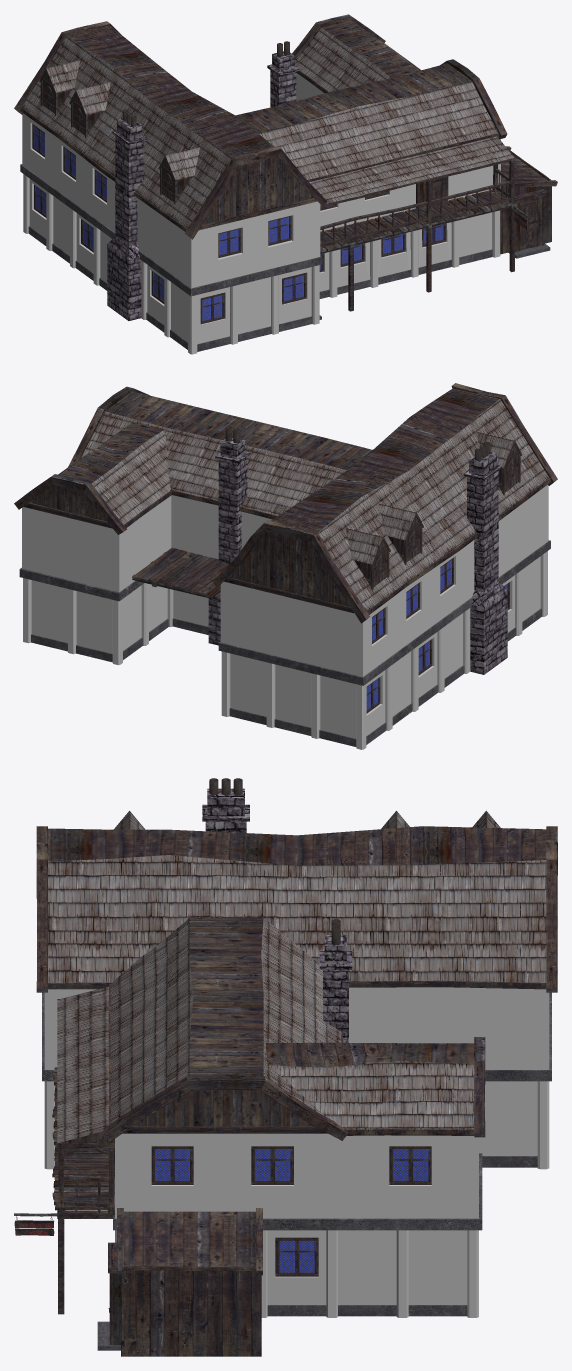
The picture shows the model from 3 angles, top to bottom: view 1: azimuth 30°, elevation 25°; view 2: azimuth 150°, elevation 25°; view 3: azimuth 270°, elevation 25°; orthographic projection. The views are drawn at different scales.
Parts seen in each view (by area): view 1: Roof, Level1, Level2, RoofWood, Balcony, Chimney, RoofFrame, Level3, WindowFrames, Foundation, Level2Frame, Level3Frames (+5 smaller); view 2: Level2, Roof, Level1, RoofWood, Chimney, Level3, RoofFrame, Level2Frame, Foundation, BackBalcony, Level3Frames, WindowFrames; view 3: Roof, RoofWood, Level2, Level1, RoofFrame, Entrance, Balcony, Level3, Level2Frame, Chimney, WindowFrames, Foundation (+8 smaller).
Part boxes in pixels (x1,y1,x2,y2): Roof: (22,28,514,228); Level1: (23,174,500,354); Level2: (22,73,500,288); RoofWood: (67,20,547,181); Balcony: (320,157,515,311); Chimney: (107,51,299,320); RoofFrame: (14,14,557,239); Level3: (42,73,313,224); WindowFrames: (32,86,446,324); Foundation: (28,226,492,351); Level2Frame: (20,164,501,296); Level3Frames: (40,78,317,230); Level2: (22,484,548,676); Roof: (58,399,548,610); Level1: (23,551,547,749); RoofWood: (60,388,499,532); Chimney: (208,437,507,674); Level3: (29,446,518,606); RoofFrame: (14,383,557,623); Level2Frame: (19,540,550,685); Foundation: (31,608,541,746); BackBalcony: (132,547,228,600); Level3Frames: (23,452,520,613); WindowFrames: (366,460,517,713); Roof: (48,811,546,1143); RoofWood: (48,826,546,1266); Level2: (44,987,549,1218); Level1: (44,1081,549,1317); RoofFrame: (36,810,557,1271); Entrance: (121,1270,261,1356); Balcony: (52,989,114,1314); Level3: (133,1090,314,1126); Level2Frame: (42,992,551,1230); Chimney: (202,788,352,1042); WindowFrames: (151,1146,431,1276); Foundation: (267,1156,537,1316).
Size of the model in its own units: 17.8 by 8.32 by 13.91.
